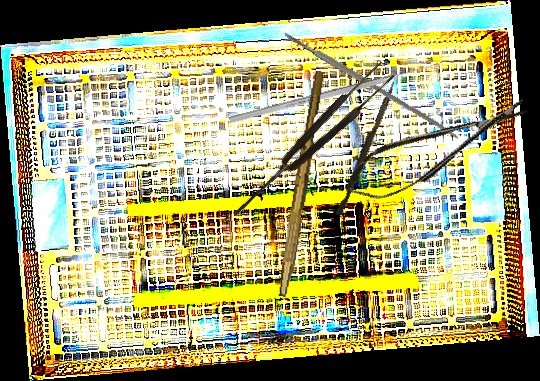Micro Scissor: (338, 88, 537, 211)
Pusher: (228, 61, 440, 124), (335, 78, 397, 218)
Scalpel Handle: (282, 29, 461, 141), (278, 69, 326, 299)
Tissue Forceps: (224, 60, 398, 223)
